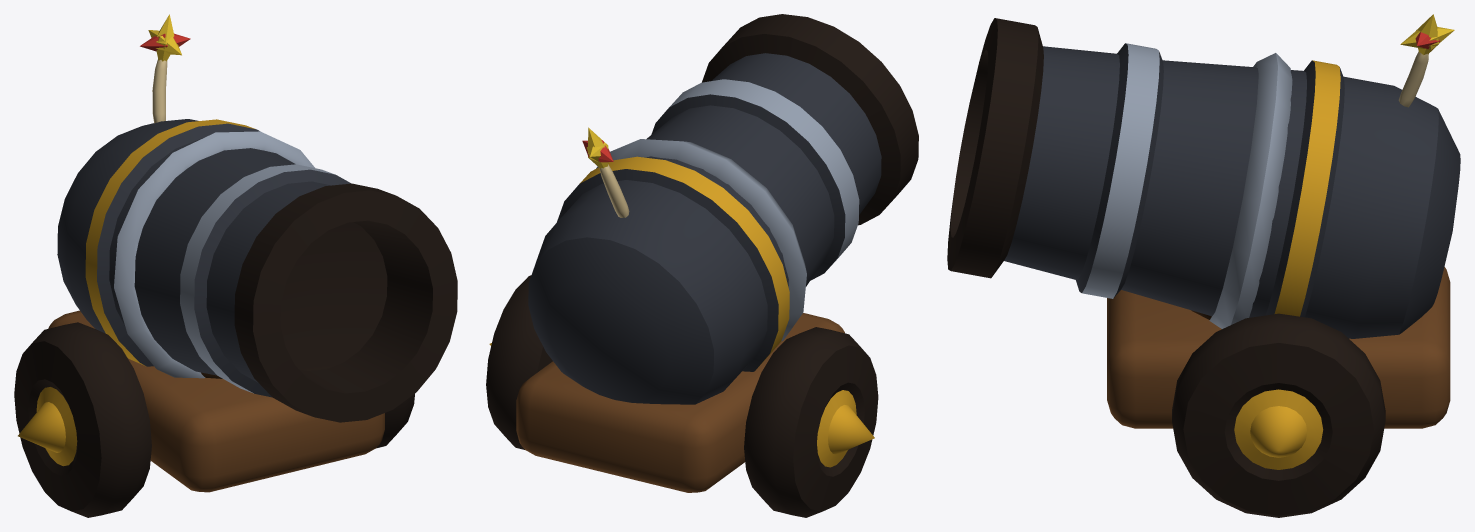
The picture shows the model from 3 angles, left to right: view 1: azimuth 30°, elevation 25°; view 2: azimuth 150°, elevation 25°; view 3: azimuth 270°, elevation 25°; orthographic projection. The views are drawn at different scales.
Parts seen in each view (by area): view 1: bomba_1_torreta, bomba_0_base; view 2: bomba_1_torreta, bomba_0_base; view 3: bomba_1_torreta, bomba_0_base.
Boxes of the visible parts, x1,y1,x2,y2 form: bomba_1_torreta: (57,14,457,422); bomba_0_base: (14,310,414,517); bomba_1_torreta: (528,14,918,404); bomba_0_base: (486,275,878,517); bomba_1_torreta: (947,14,1460,338); bomba_0_base: (1107,267,1450,517).
Bounding box in the file's own units: 0.784 × 0.7664 × 0.8074.
